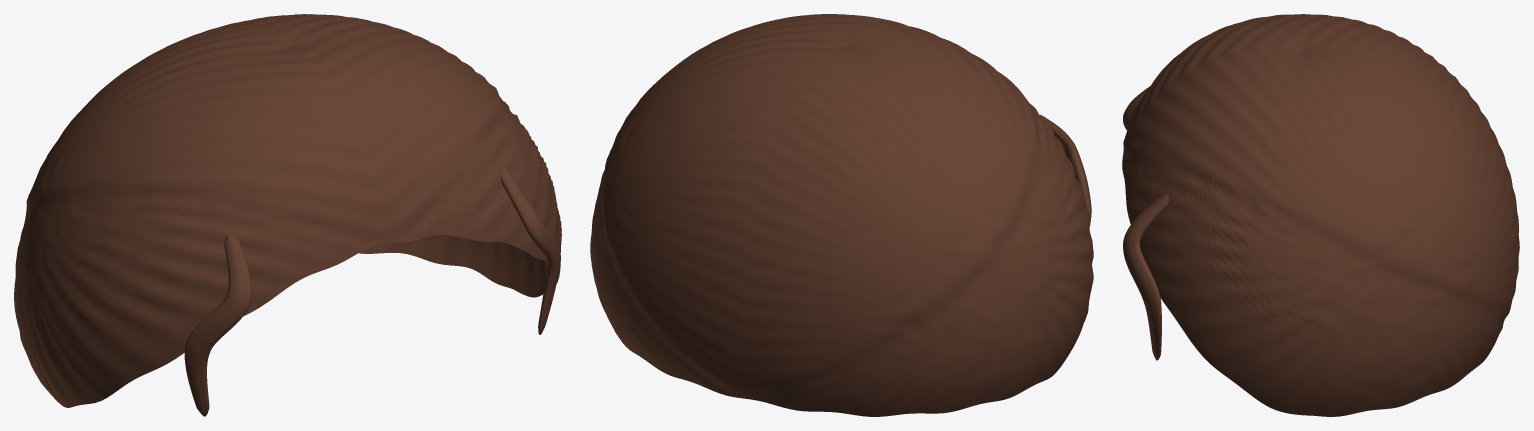
Rendered from Feminine-twin-braids-ears251-hair.glb.
The picture shows the model from 3 angles, left to right: view 1: azimuth 30°, elevation 25°; view 2: azimuth 150°, elevation 25°; view 3: azimuth 270°, elevation 25°; orthographic projection. The views are drawn at different scales.
Parts seen in each view (by area): view 1: 226 hair / Hair / chestnut226.002; view 2: 226 hair / Hair / chestnut226.002; view 3: 226 hair / Hair / chestnut226.002.
Part boxes in pixels (<box>): 226 hair / Hair / chestnut226.002: <box>14,14,561,416</box>; 226 hair / Hair / chestnut226.002: <box>590,14,1093,416</box>; 226 hair / Hair / chestnut226.002: <box>1122,14,1519,416</box>.
Size of the model in its own units: 0.9981 by 0.5988 by 0.7846.
